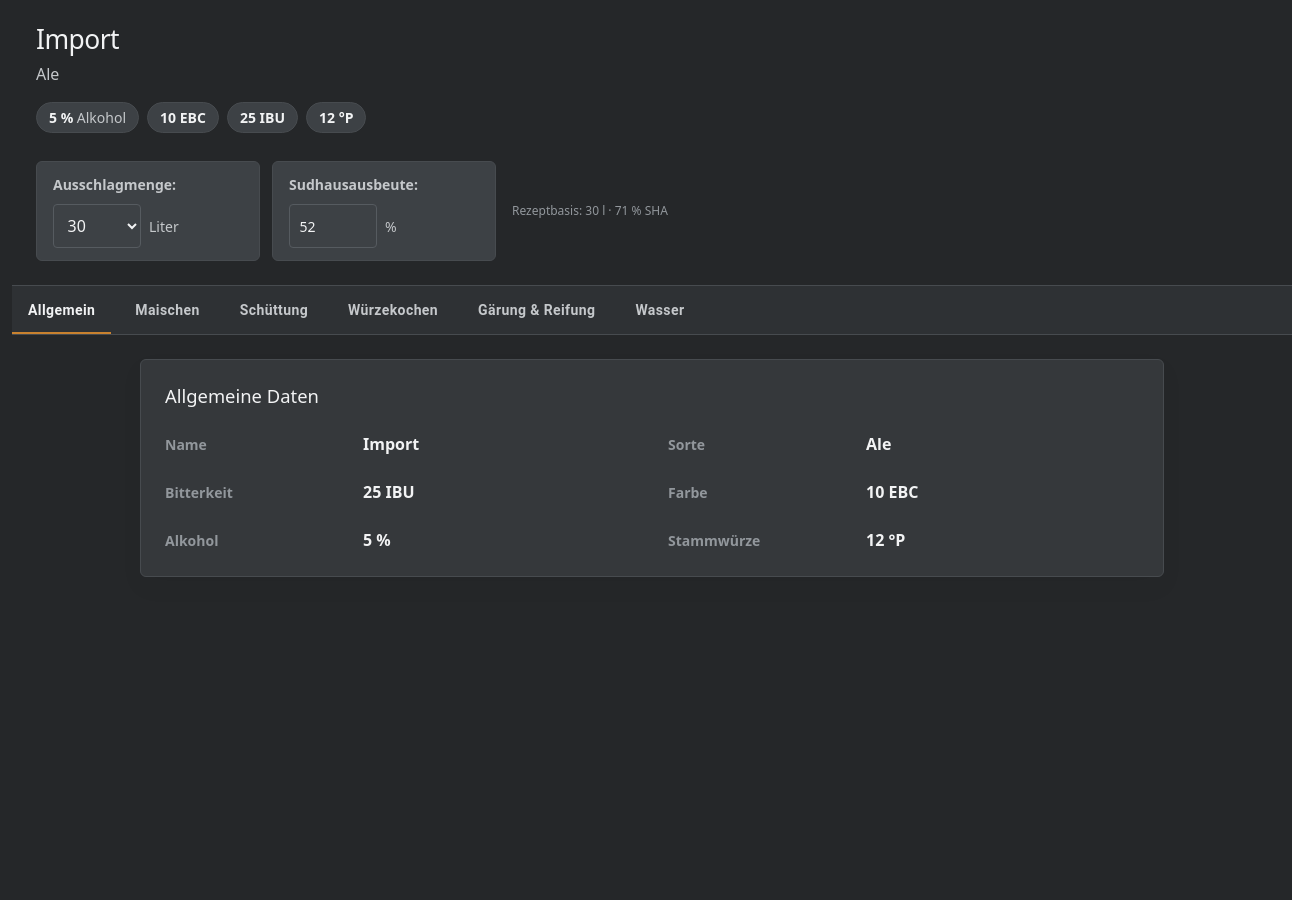
Test: displays the unknown ingredient fallback for an unresolved recipe hop
Click the tab "Würzekochen". click: x=393, y=310
box: [332,286,454,334]
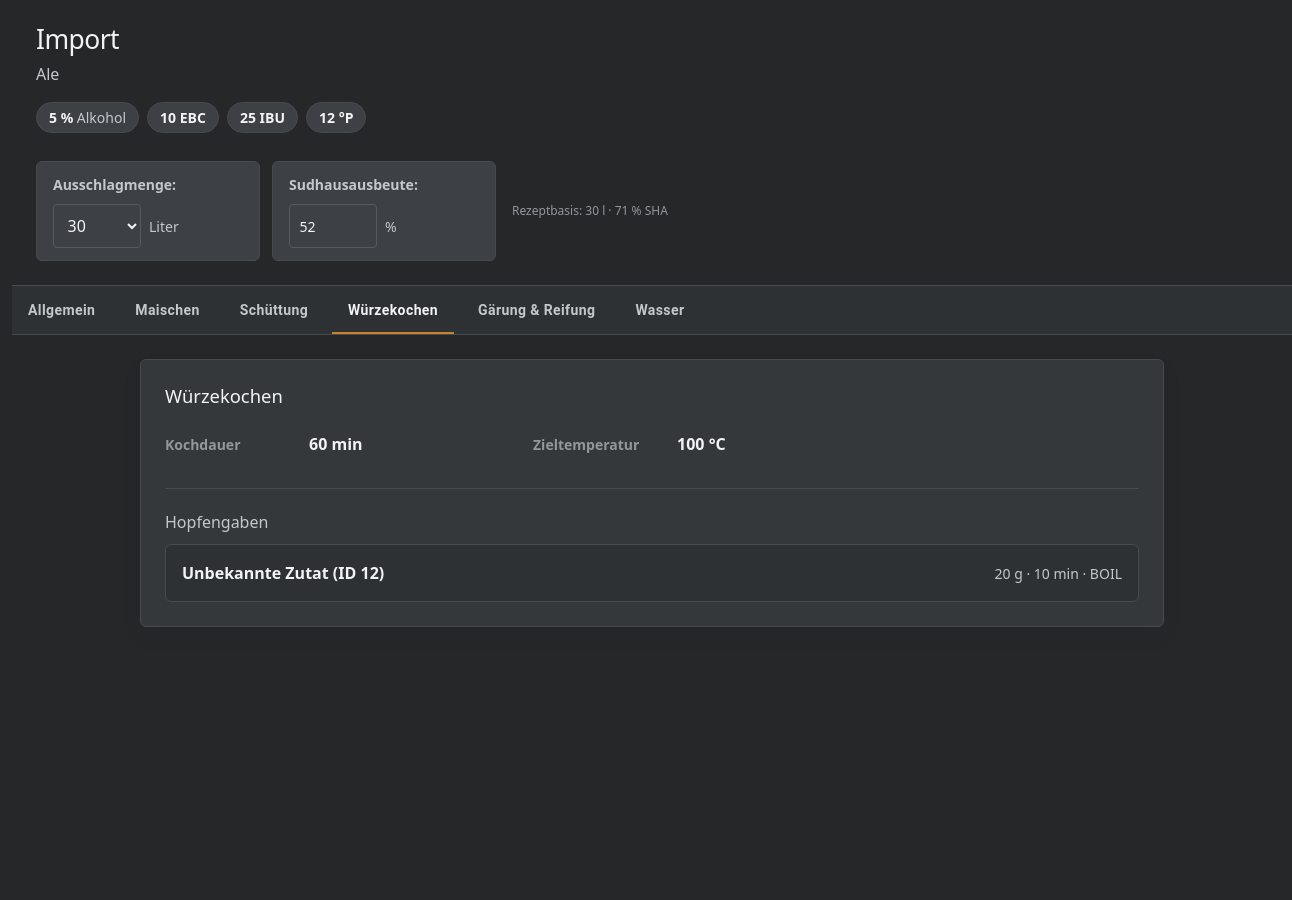
Expected: the text "Unbekannte Zutat (ID 12)" is shown, [182,562,384,586]
